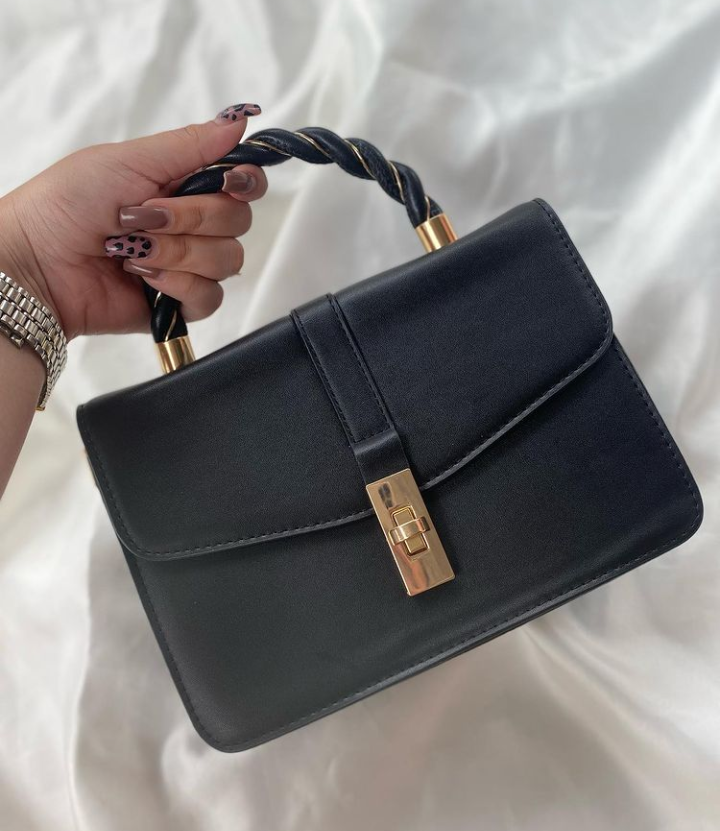cartera: (62, 178, 707, 765)
cuero: (165, 422, 297, 485)
